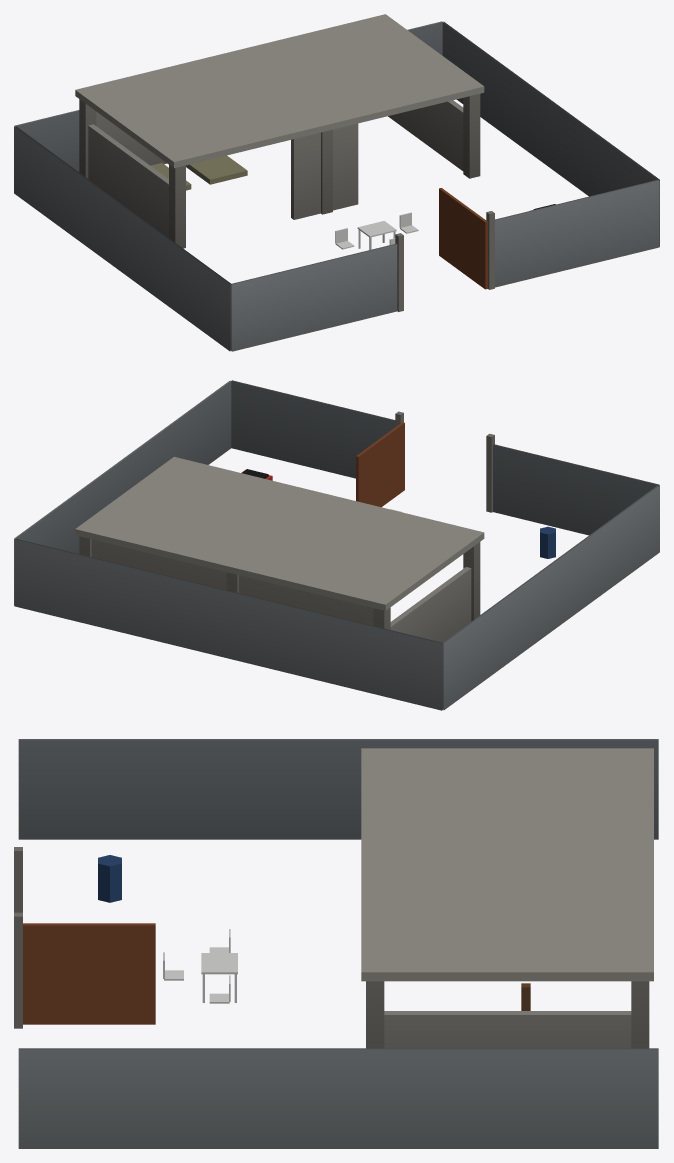
Rendered from ub_den_lod1.glb.
The picture shows the model from 3 angles, top to bottom: view 1: azimuth 30°, elevation 25°; view 2: azimuth 150°, elevation 25°; view 3: azimuth 270°, elevation 25°; orthographic projection. The views are drawn at different scales.
Visible parts, largest first — view 1: ub_den_lod1; view 2: ub_den_lod1; view 3: ub_den_lod1.
Boxes of the visible parts, x1,y1,x2,y2 form: ub_den_lod1: [14, 14, 659, 351]; ub_den_lod1: [14, 380, 659, 710]; ub_den_lod1: [14, 739, 658, 1148].
Bounding box in the file's own units: 16.06 × 3.22 × 14.13.
